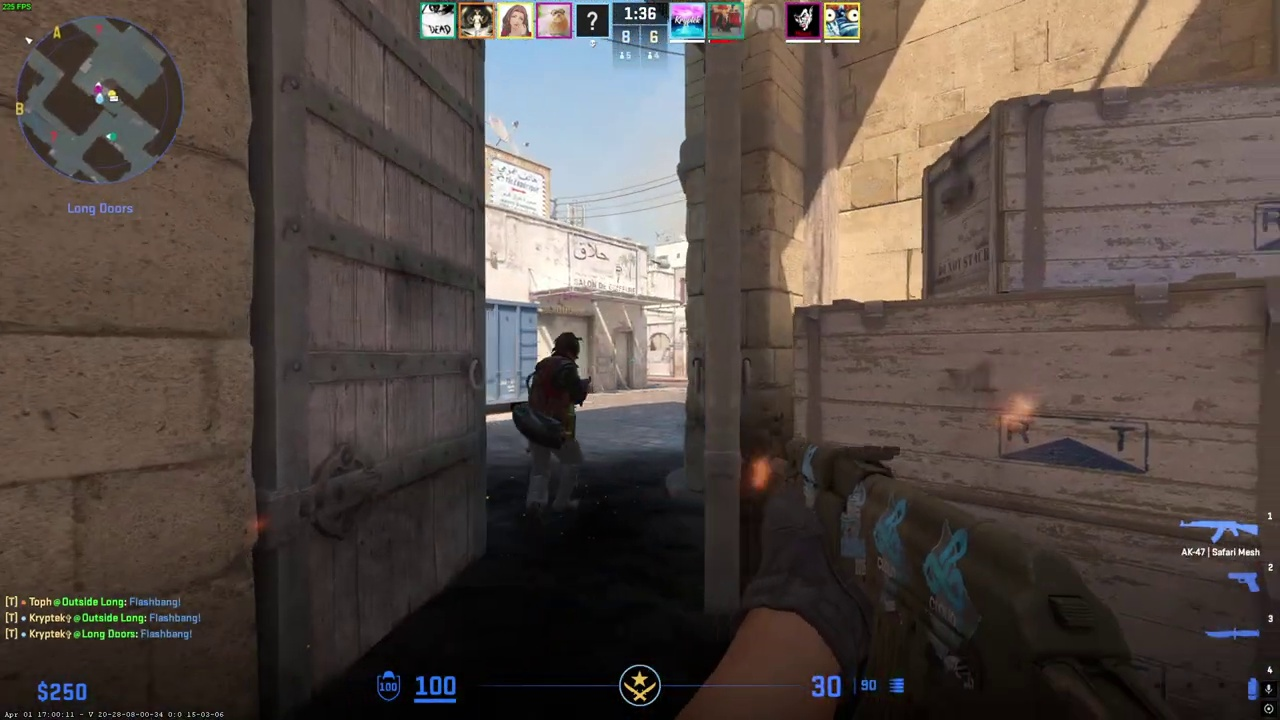Terrorist: (524, 331, 585, 510)
